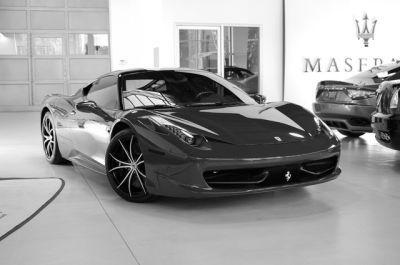car: (39, 67, 346, 206)
